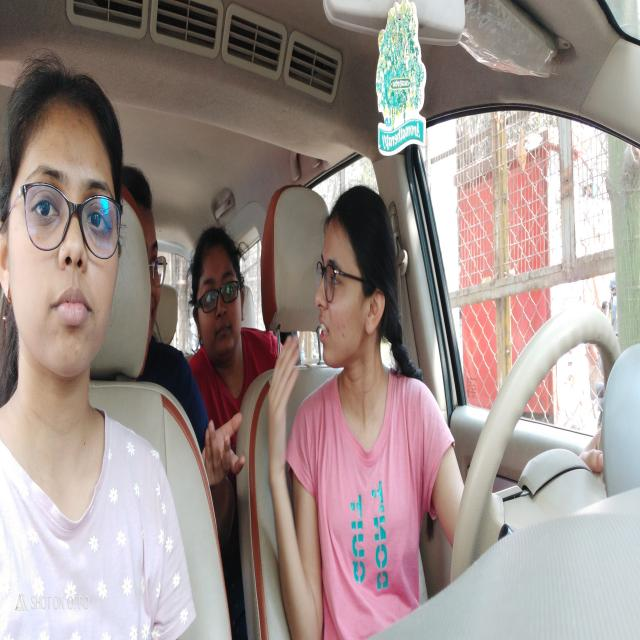LeftRight: (316, 191, 389, 362)
person: (13, 100, 121, 376), (195, 234, 247, 356), (138, 181, 170, 329)
talking: (316, 319, 333, 348)
